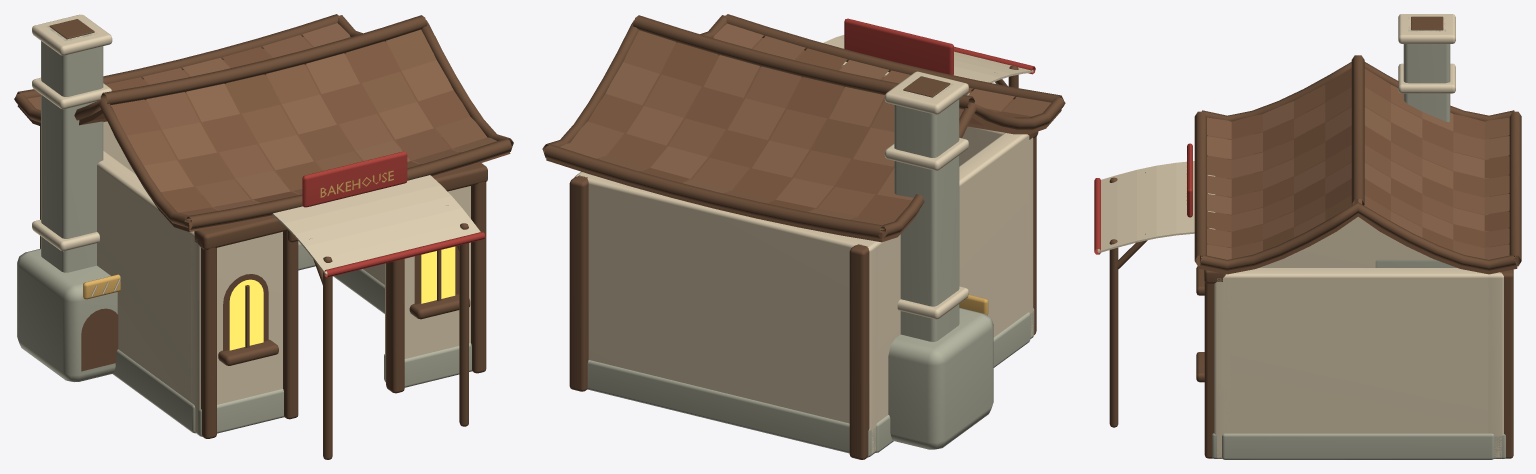
File: kitchen.glb
3 views of the same model, side by side, from view 1: azimuth 30°, elevation 25°; view 2: azimuth 150°, elevation 25°; view 3: azimuth 270°, elevation 25° (orthographic). The views are drawn at different scales.
Parts seen in each view (by area): view 1: kitchen-exterior; view 2: kitchen-exterior; view 3: kitchen-exterior.
Part boxes in pixels (bbox=[...]): kitchen-exterior: bbox=[14, 14, 513, 459]; kitchen-exterior: bbox=[542, 14, 1065, 459]; kitchen-exterior: bbox=[1094, 14, 1521, 459].
Size of the model in its own units: 3.75 by 3.31 by 4.22.
